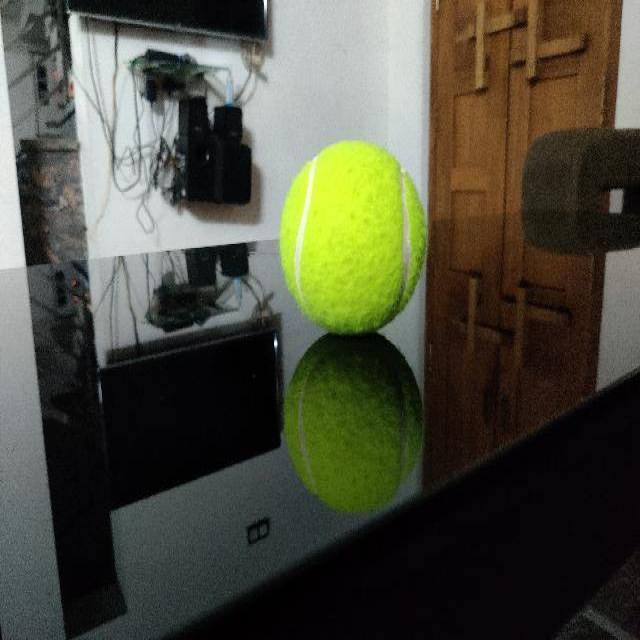tennis-ball: (279, 139, 427, 333)
